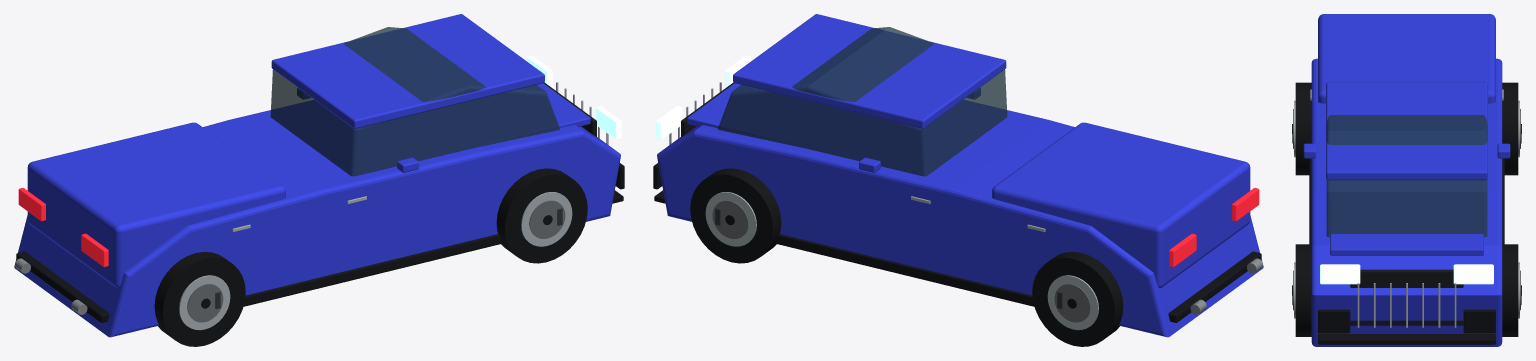
The model's file is ford_f_150_svt_lightning.glb.
The picture shows the model from 3 angles, left to right: view 1: azimuth 30°, elevation 25°; view 2: azimuth 150°, elevation 25°; view 3: azimuth 270°, elevation 25°; orthographic projection. The views are drawn at different scales.
Parts seen in each view (by area): view 1: sculpted_body, pickup_bed, cab, cab_roof, hood_center, rear_right_wheel_tire, front_right_wheel_tire, side_skirt_1, rear_diffuser, rear_right_wheel_rim, front_right_wheel_rim, rear_right_wheel_disc (+4 smaller); view 2: sculpted_body, pickup_bed, cab, cab_roof, hood_center, rear_left_wheel_tire, front_left_wheel_tire, side_skirt_-1, rear_diffuser, rear_left_wheel_rim, front_left_wheel_rim, rear_left_wheel_disc (+4 smaller); view 3: cab_roof, sculpted_body, cab, pickup_bed, hood_center, front_grille, front_splitter, front_left_wheel_tire, front_right_wheel_tire, rear_left_wheel_tire, rear_right_wheel_tire, headlight_left (+7 smaller).
Part boxes in pixels (x1=…): sculpted_body: x1=14, y1=100, x2=620, y2=337; pickup_bed: x1=27, y1=122, x2=285, y2=287; cab: x1=270, y1=27, x2=559, y2=176; cab_roof: x1=271, y1=14, x2=544, y2=128; hood_center: x1=399, y1=83, x2=590, y2=151; rear_right_wheel_tire: x1=154, y1=252, x2=245, y2=346; front_right_wheel_tire: x1=496, y1=168, x2=587, y2=263; side_skirt_1: x1=243, y1=234, x2=502, y2=306; rear_diffuser: x1=16, y1=251, x2=109, y2=322; rear_right_wheel_rim: x1=179, y1=275, x2=230, y2=330; front_right_wheel_rim: x1=521, y1=192, x2=572, y2=246; rear_right_wheel_disc: x1=187, y1=284, x2=223, y2=322; sculpted_body: x1=657, y1=100, x2=1263, y2=337; pickup_bed: x1=992, y1=122, x2=1250, y2=287; cab: x1=718, y1=27, x2=1007, y2=176; cab_roof: x1=733, y1=14, x2=1006, y2=128; hood_center: x1=687, y1=83, x2=878, y2=151; rear_left_wheel_tire: x1=1032, y1=252, x2=1123, y2=346; front_left_wheel_tire: x1=690, y1=168, x2=781, y2=263; side_skirt_-1: x1=775, y1=234, x2=1034, y2=306; rear_diffuser: x1=1168, y1=251, x2=1261, y2=322; rear_left_wheel_rim: x1=1047, y1=275, x2=1098, y2=330; front_left_wheel_rim: x1=705, y1=192, x2=756, y2=246; rear_left_wheel_disc: x1=1054, y1=284, x2=1090, y2=322; cab_roof: x1=1326, y1=82, x2=1487, y2=180; sculpted_body: x1=1311, y1=58, x2=1502, y2=346; cab: x1=1326, y1=115, x2=1487, y2=237; pickup_bed: x1=1318, y1=14, x2=1495, y2=103; hood_center: x1=1330, y1=181, x2=1483, y2=255; front_grille: x1=1350, y1=269, x2=1463, y2=325; front_splitter: x1=1318, y1=334, x2=1495, y2=344; front_left_wheel_tire: x1=1502, y1=244, x2=1518, y2=336; front_right_wheel_tire: x1=1295, y1=244, x2=1311, y2=336; rear_left_wheel_tire: x1=1502, y1=82, x2=1518, y2=175; rear_right_wheel_tire: x1=1295, y1=82, x2=1311, y2=175; headlight_left: x1=1453, y1=264, x2=1493, y2=284.
Bounding box in the file's own units: 6.08 × 1.94 × 2.33.
